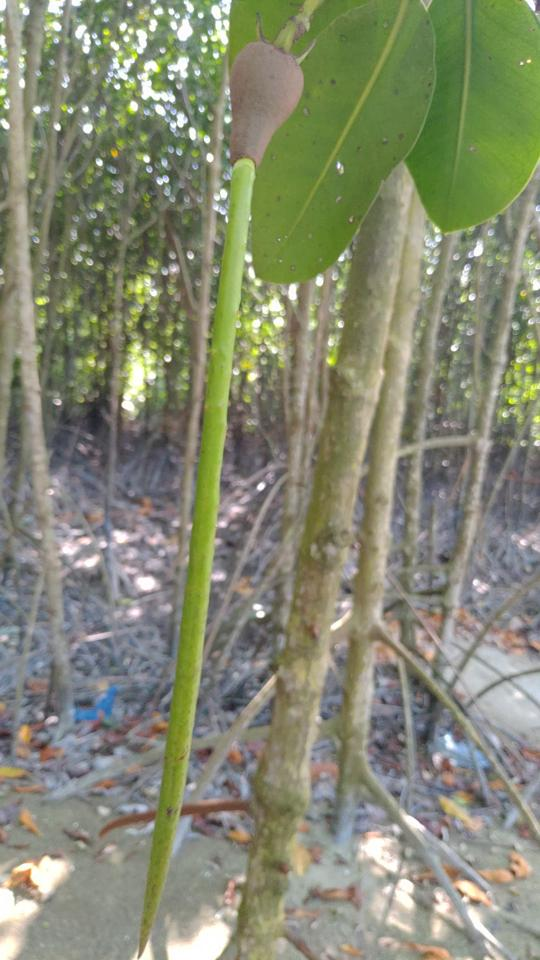setengah matang: (126, 6, 331, 958)
